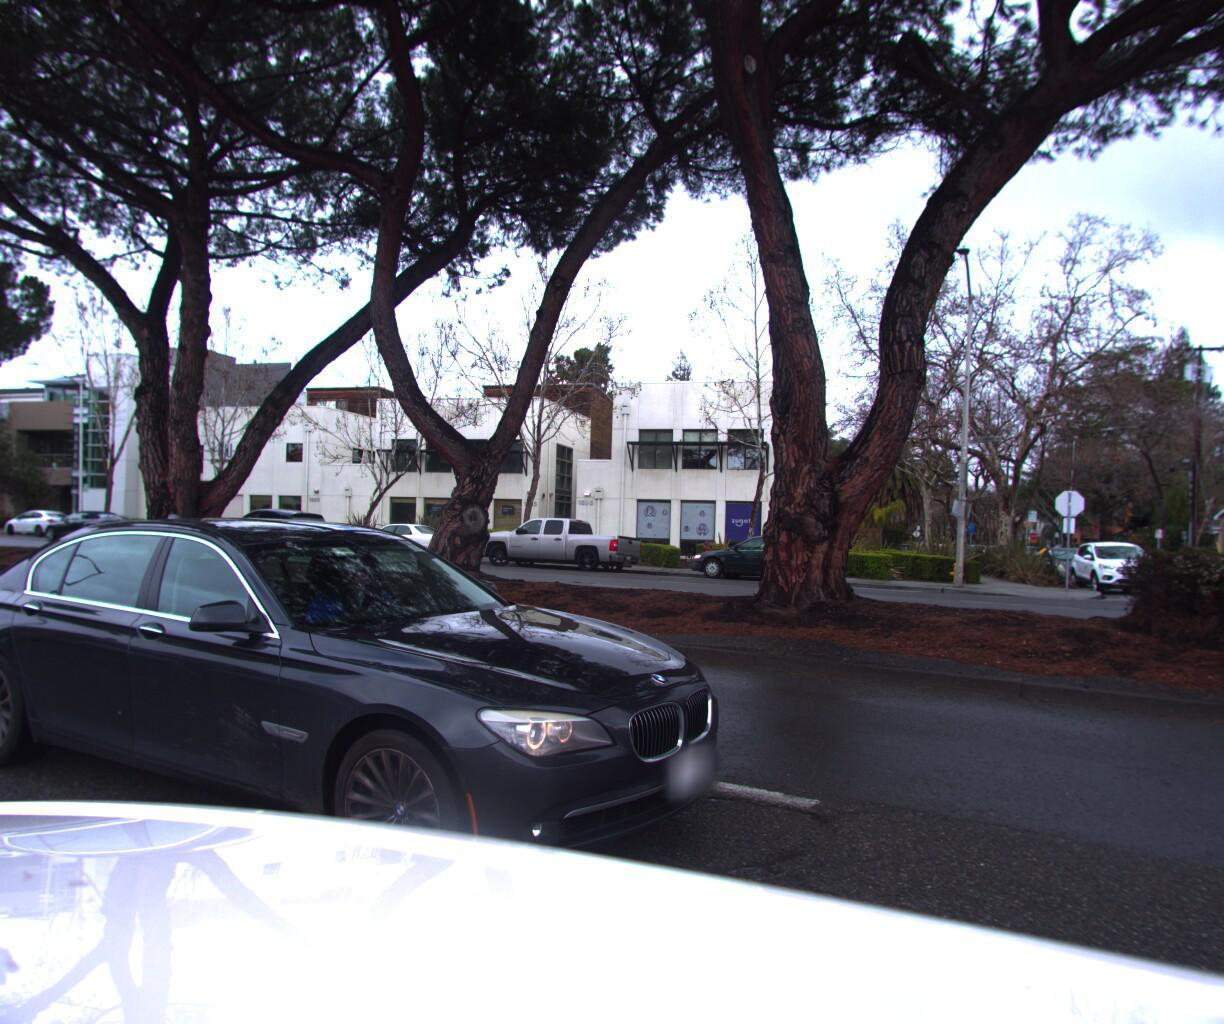car: (470, 513, 646, 579), (680, 533, 854, 590), (196, 509, 345, 565), (1059, 537, 1165, 599), (334, 519, 465, 565), (1027, 543, 1108, 589), (36, 510, 139, 546), (0, 510, 81, 540)
